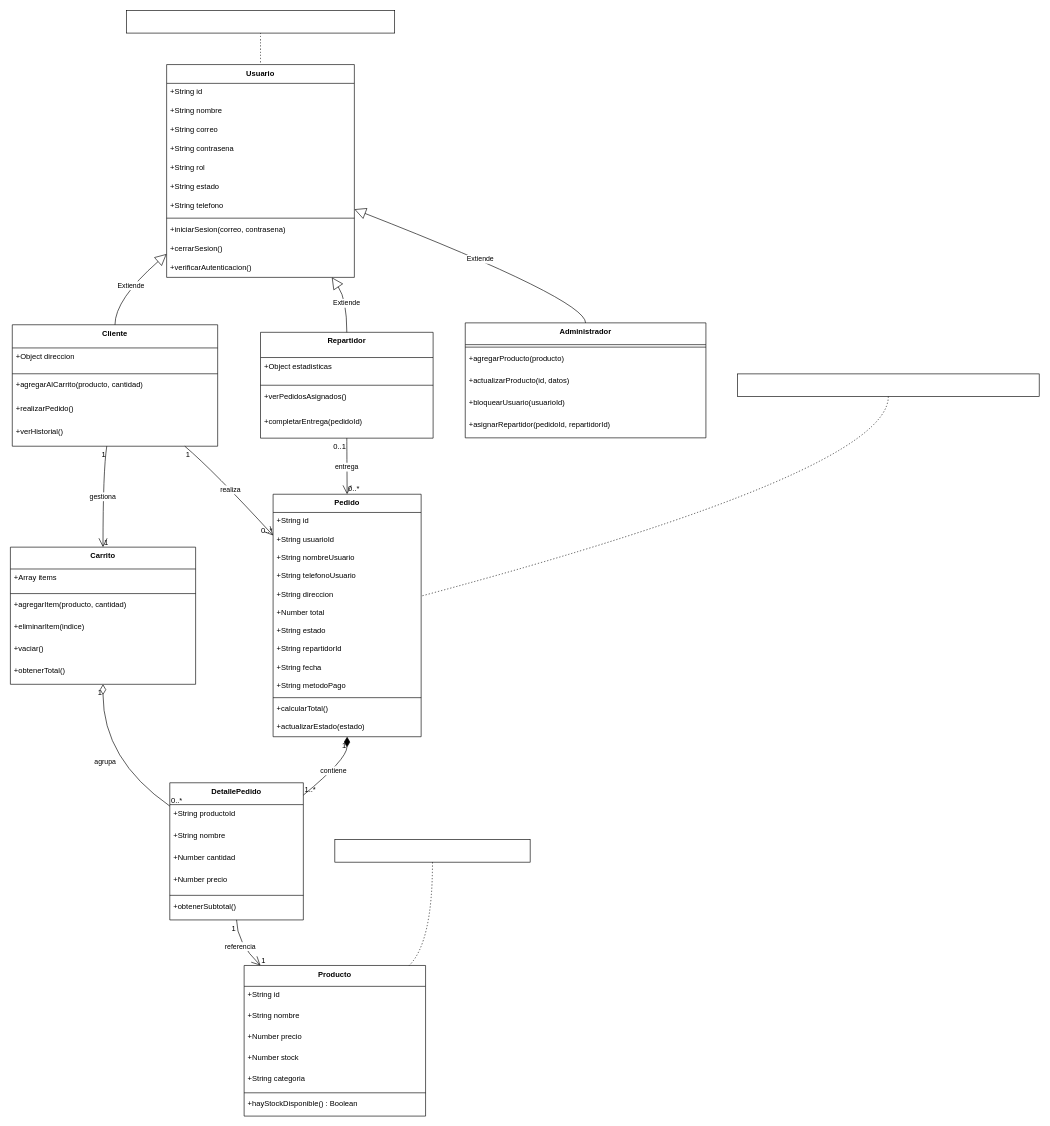
Image size: 1050x1126. Some labels were removed from this diagram. Each missing label, with the centre of its shape:
Discriminador: rol ('administrador', 'cliente', 'repartidor'): the point at 260,21
El stock se descuenta al crear un Pedido: the point at 432,850
Enum Estado: 'Pendiente', 'En Camino', 'Entregado', 'Cancelado': the point at 888,385
